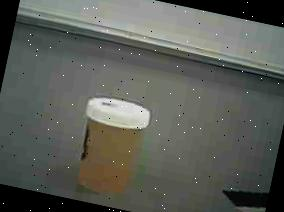Bottle B: (56, 85, 162, 211)
